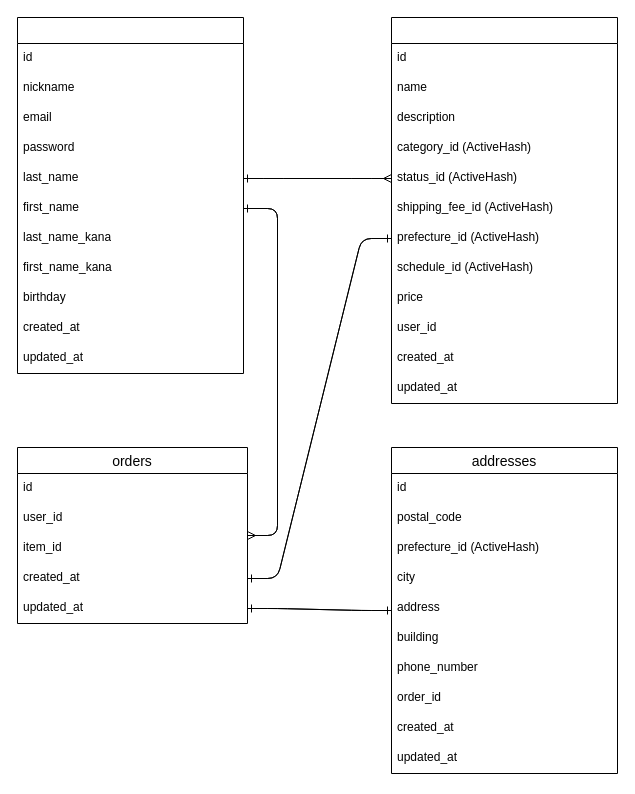
Image size: 635x794. Some labels were removed from this diagram. Here are the shapes that lost their labels. From the top down, the box of each, then its label:
(16, 16, 244, 374): users
(390, 16, 618, 404): items
